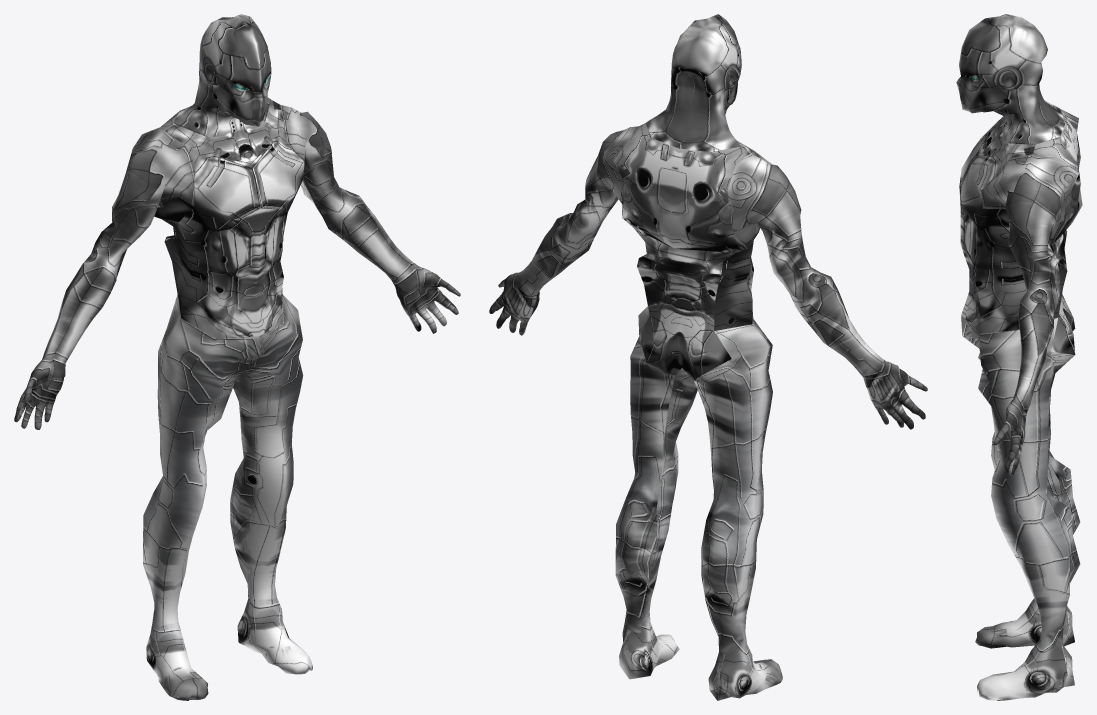
File: Clone.FBX
3 renders of one model, left to right at view 1: azimuth 30°, elevation 25°; view 2: azimuth 150°, elevation 25°; view 3: azimuth 270°, elevation 25°, orthographic.
Visible parts, largest first — view 1: Cyclone_char_low; view 2: Cyclone_char_low; view 3: Cyclone_char_low.
Part boxes in pixels (box(x1,y1,x2,y2)): Cyclone_char_low: box(14, 14, 460, 700); Cyclone_char_low: box(489, 14, 927, 700); Cyclone_char_low: box(956, 14, 1082, 700).
Size of the model in its own units: 5.57 by 7.95 by 1.39.
